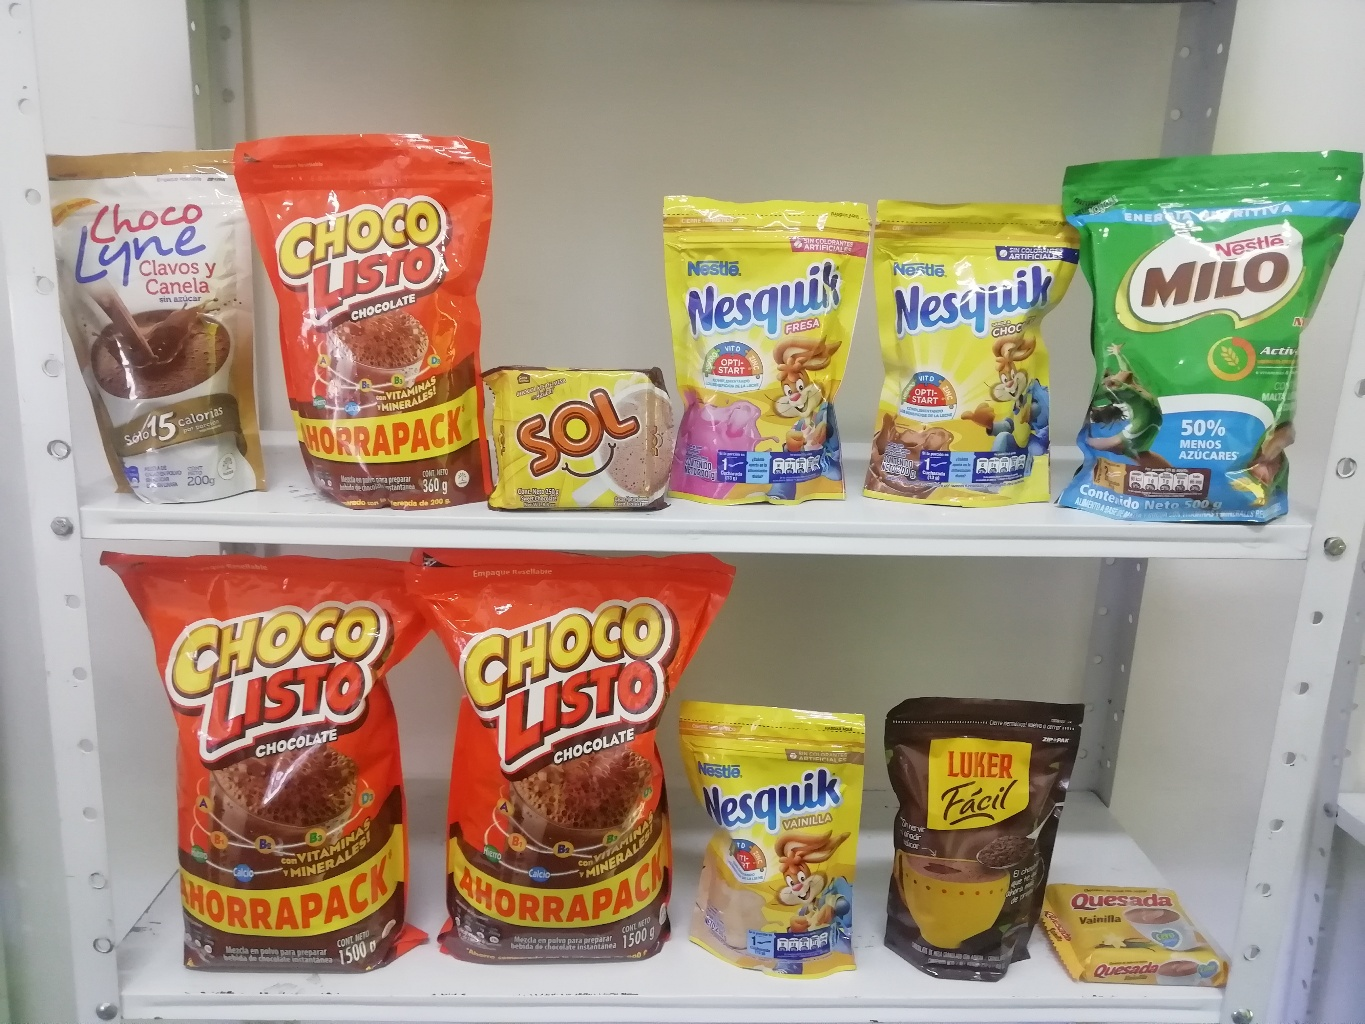COL0170103DYP1,500: (402, 551, 735, 964)
COL0170103DYP36000: (239, 139, 497, 509)
COL0170205DYP50000: (1061, 151, 1357, 528)
COL0170303DYP20000: (875, 191, 1081, 508)
COL0170305DYP20000: (663, 187, 873, 506)
COL0170306DYP20000: (678, 696, 866, 976)
